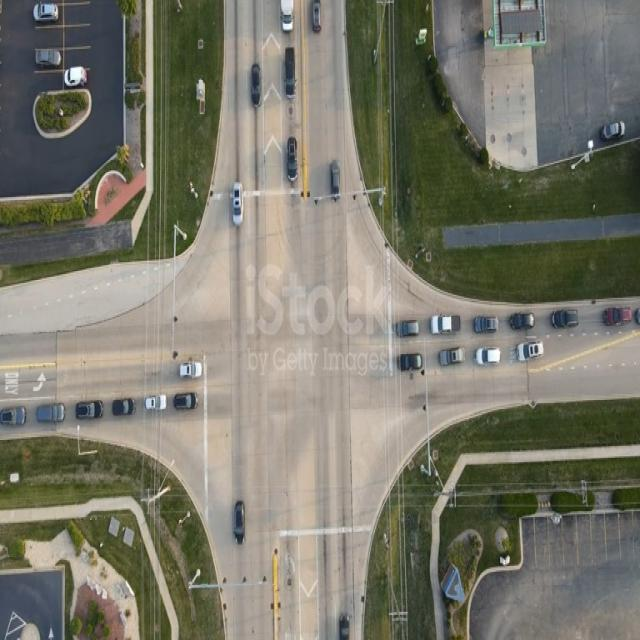car: (284, 48, 296, 101), (603, 306, 632, 327), (550, 310, 578, 330), (36, 404, 64, 424), (0, 407, 25, 428), (76, 402, 102, 422), (236, 180, 248, 223), (238, 505, 250, 548), (34, 2, 59, 22), (398, 353, 423, 373), (235, 502, 246, 546), (65, 67, 88, 88), (279, 0, 294, 32), (518, 343, 543, 362), (601, 122, 624, 142), (474, 316, 499, 334), (511, 313, 536, 331), (287, 138, 297, 183), (477, 348, 501, 366), (234, 182, 244, 225), (441, 349, 464, 367), (173, 393, 196, 411), (178, 361, 201, 379), (251, 65, 261, 106), (397, 320, 419, 338), (114, 401, 137, 418), (328, 161, 338, 200), (144, 395, 166, 411), (312, 0, 322, 34), (340, 618, 351, 640)
pickup-truck: (37, 49, 64, 70)
